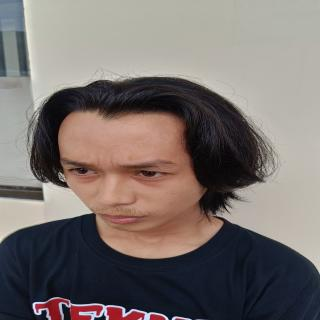Marah: (54, 104, 219, 237)
